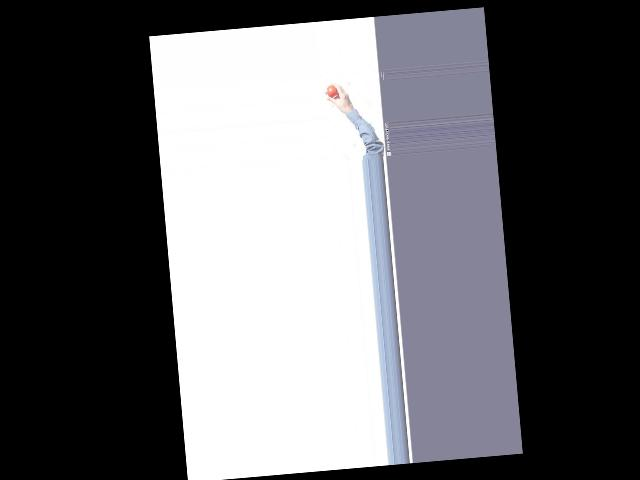tomato: (326, 84, 337, 97)
